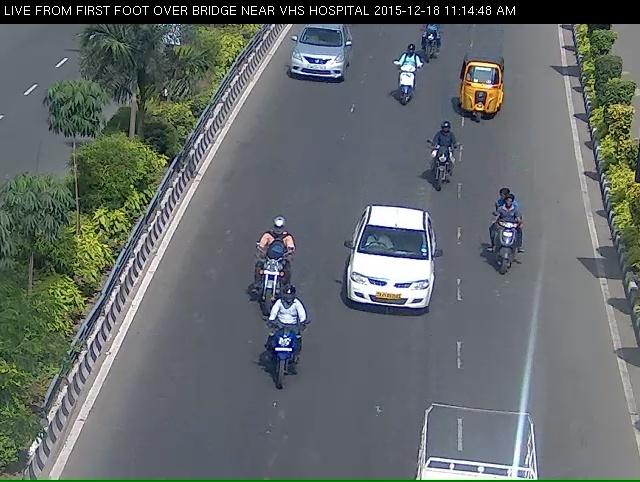Auto: (452, 61, 511, 128)
Car: (340, 211, 434, 330), (287, 28, 347, 89)
Person: (487, 199, 541, 304), (264, 314, 299, 426), (249, 238, 286, 342), (425, 131, 461, 205), (393, 51, 420, 113), (412, 22, 444, 69)
